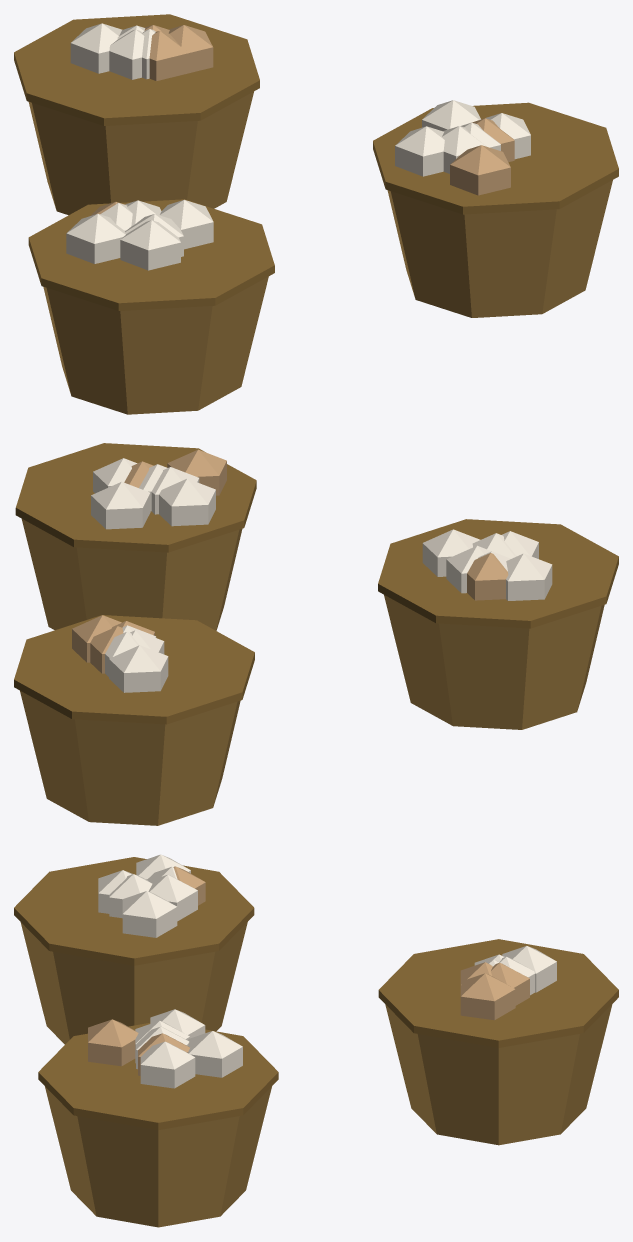
The model's file is pile_eggs_1.glb.
3 views of the same model, one above another, from view 1: azimuth 30°, elevation 25°; view 2: azimuth 150°, elevation 25°; view 3: azimuth 270°, elevation 25° (orthographic). The views are drawn at different scales.
Visible parts, largest first — view 1: pile_eggs_1; view 2: pile_eggs_1; view 3: pile_eggs_1.
Part boxes in pixels (left/top/right/bottom): pile_eggs_1: left=14, top=14, right=618, bottom=414; pile_eggs_1: left=14, top=443, right=618, bottom=825; pile_eggs_1: left=14, top=854, right=618, bottom=1227.
Size of the model in its own units: 1.29 by 0.348 by 1.24.
